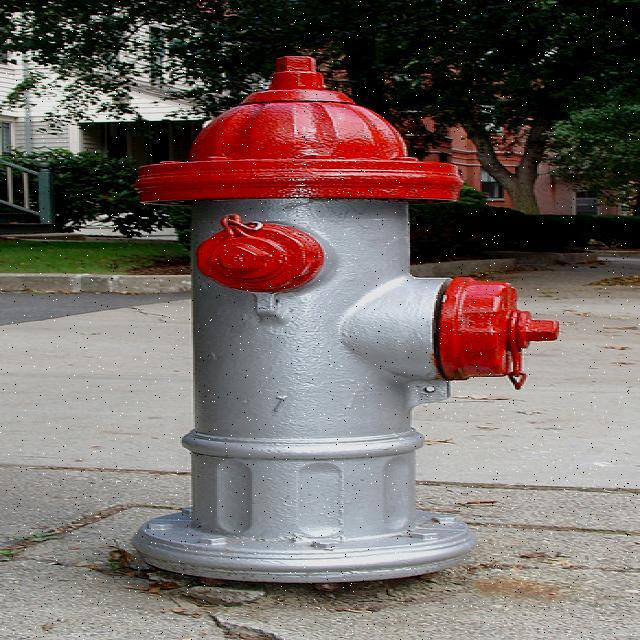fire_hydrant: (132, 59, 564, 582)
